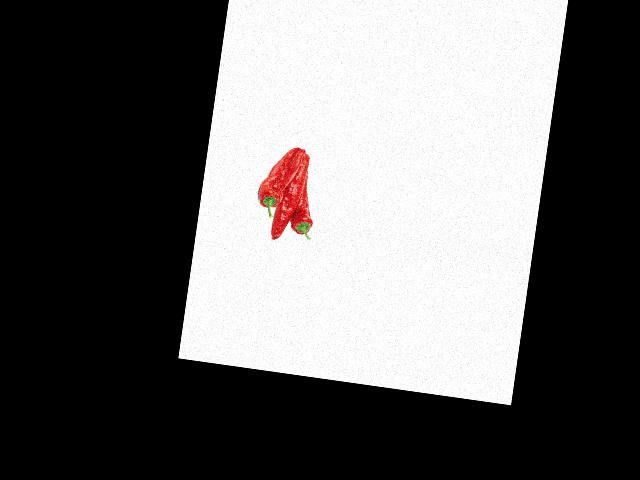bell_pepper: (252, 141, 297, 222)
